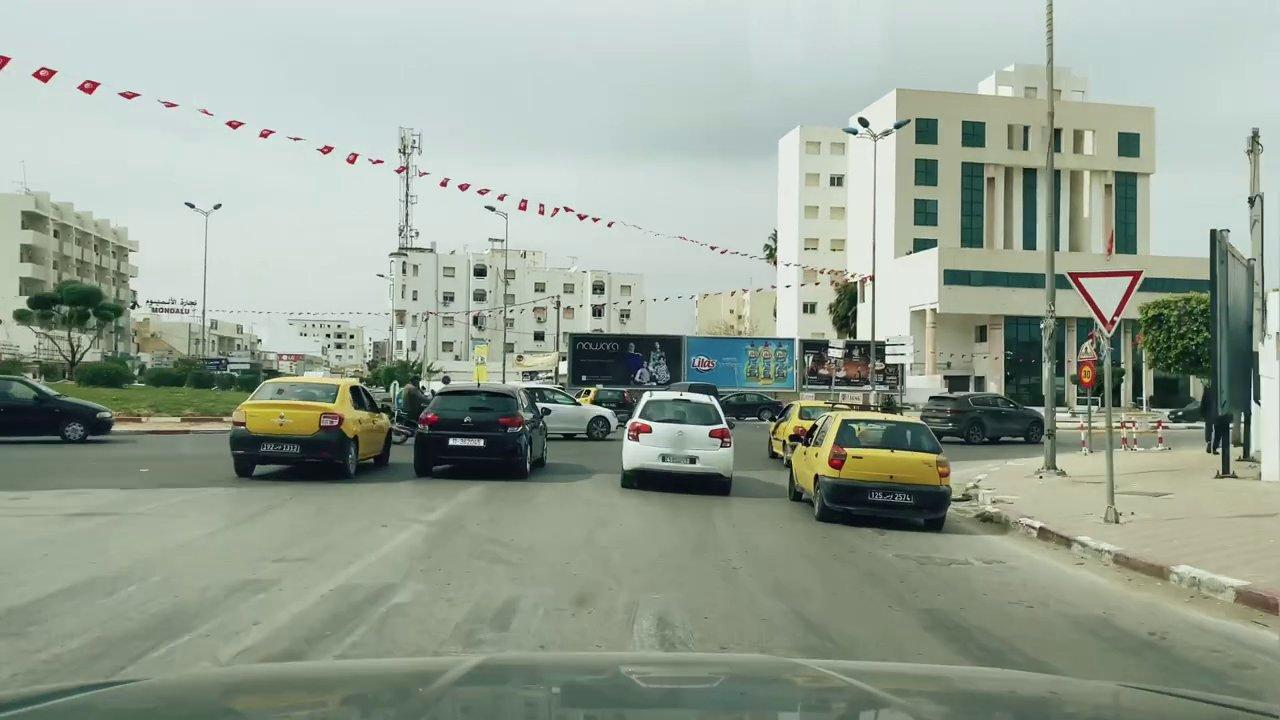give way: (1060, 262, 1150, 339)
pedestrian crossing ahead: (1076, 342, 1098, 360)
speed limit 30: (1078, 362, 1096, 388)
